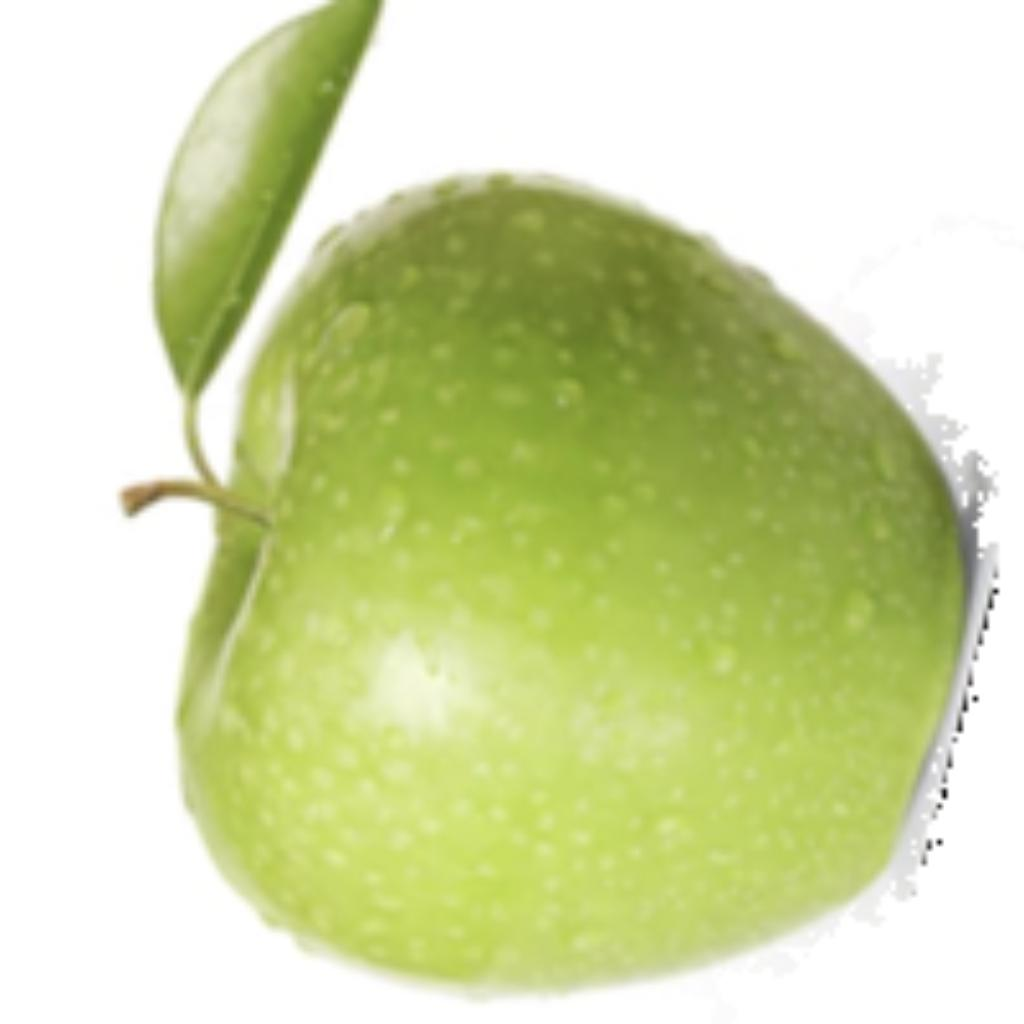apple: (143, 0, 998, 1004)
